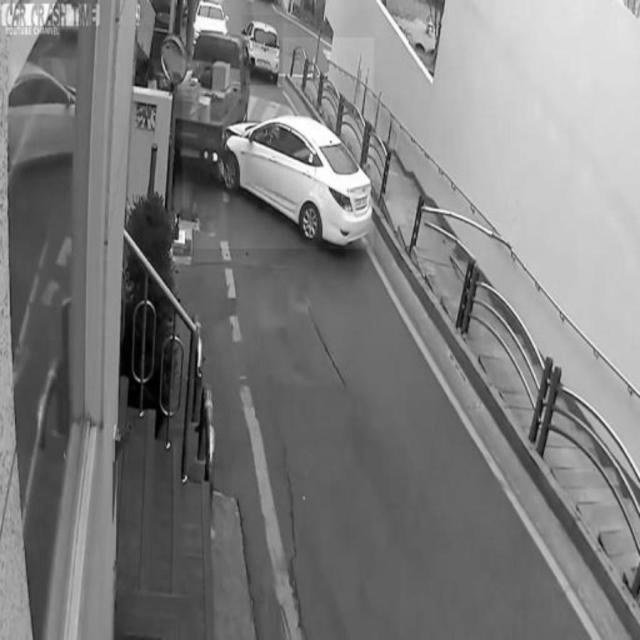accident: (183, 38, 373, 249)
vehicle: (243, 15, 283, 85)
